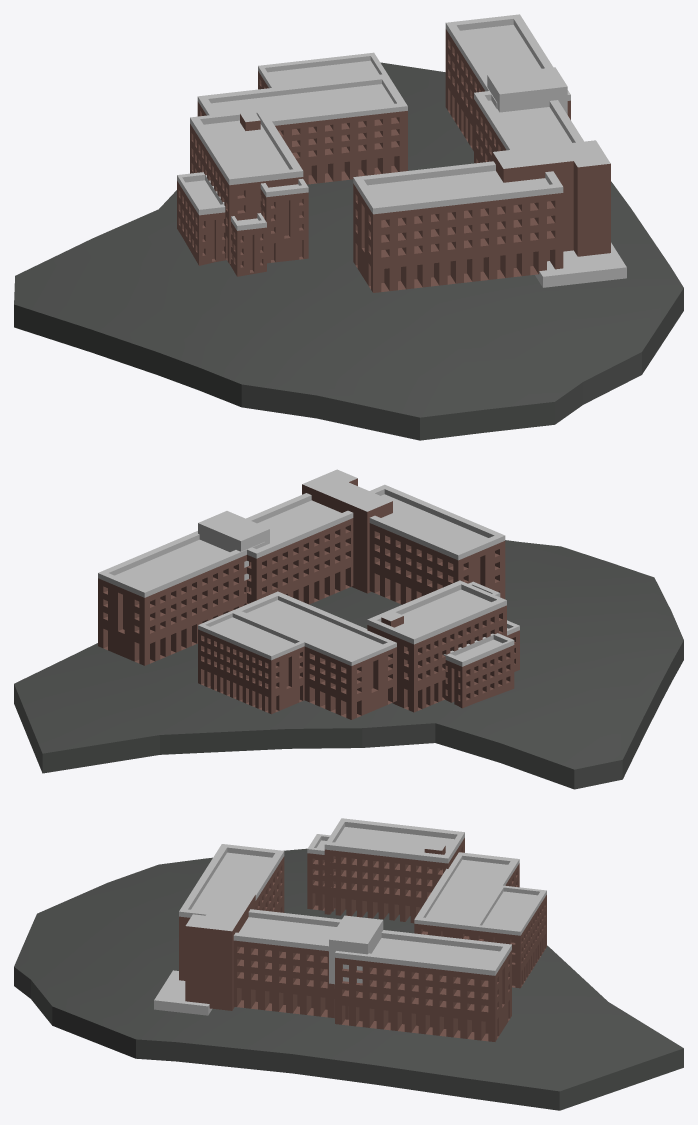
File: SM_Worldmap_A03.FBX
3 views of the same model, one above another, from view 1: azimuth 30°, elevation 25°; view 2: azimuth 150°, elevation 25°; view 3: azimuth 270°, elevation 25° (orthographic). The views are drawn at different scales.
Parts seen in each view (by area): view 1: Box001; view 2: Box001; view 3: Box001.
Part boxes in pixels (bbox=[...]): Box001: bbox=[14, 14, 683, 440]; Box001: bbox=[14, 469, 683, 789]; Box001: bbox=[14, 818, 683, 1110].
Bounding box in the file's own units: 235 × 55.78 × 264.
